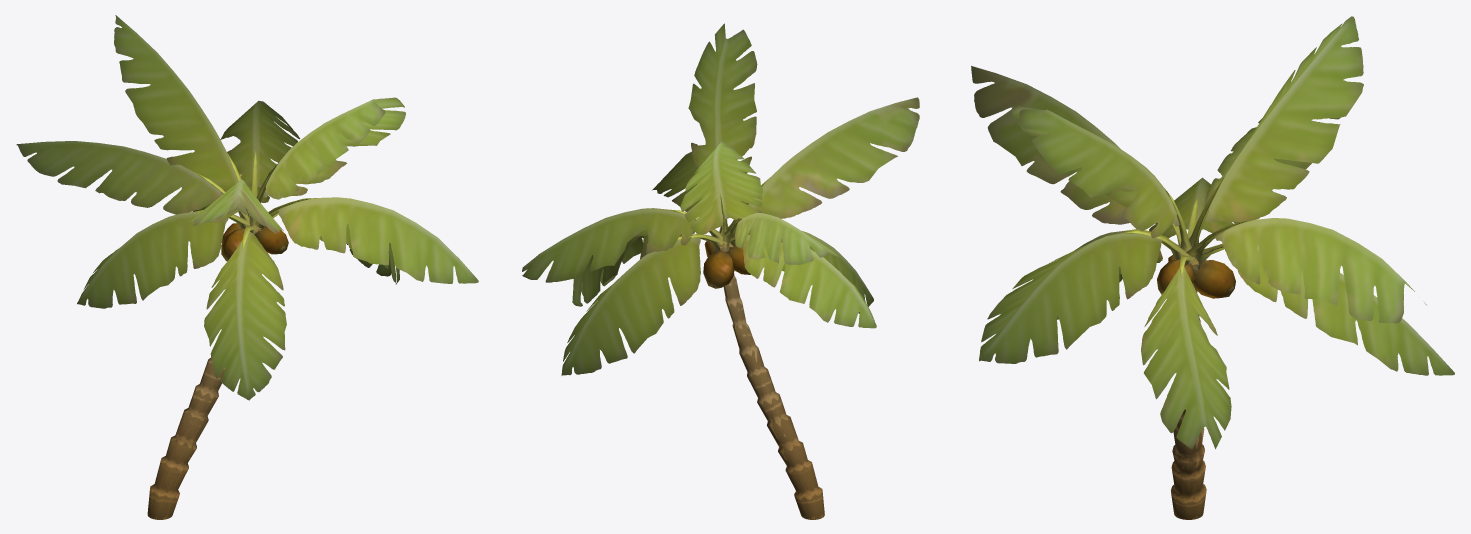
The model's file is coconut palm 03_lod1.obj.
3 renders of one model, left to right at view 1: azimuth 30°, elevation 25°; view 2: azimuth 150°, elevation 25°; view 3: azimuth 270°, elevation 25°, orthographic. The views are drawn at different scales.
Visible parts, largest first — view 1: tree; view 2: tree; view 3: tree.
Boxes of the visible parts, x1,y1,x2,y2 form: tree: (16,15,478,519); tree: (522,23,919,519); tree: (971,16,1454,519).
Size of the model in its own units: 369 by 464 by 407.
